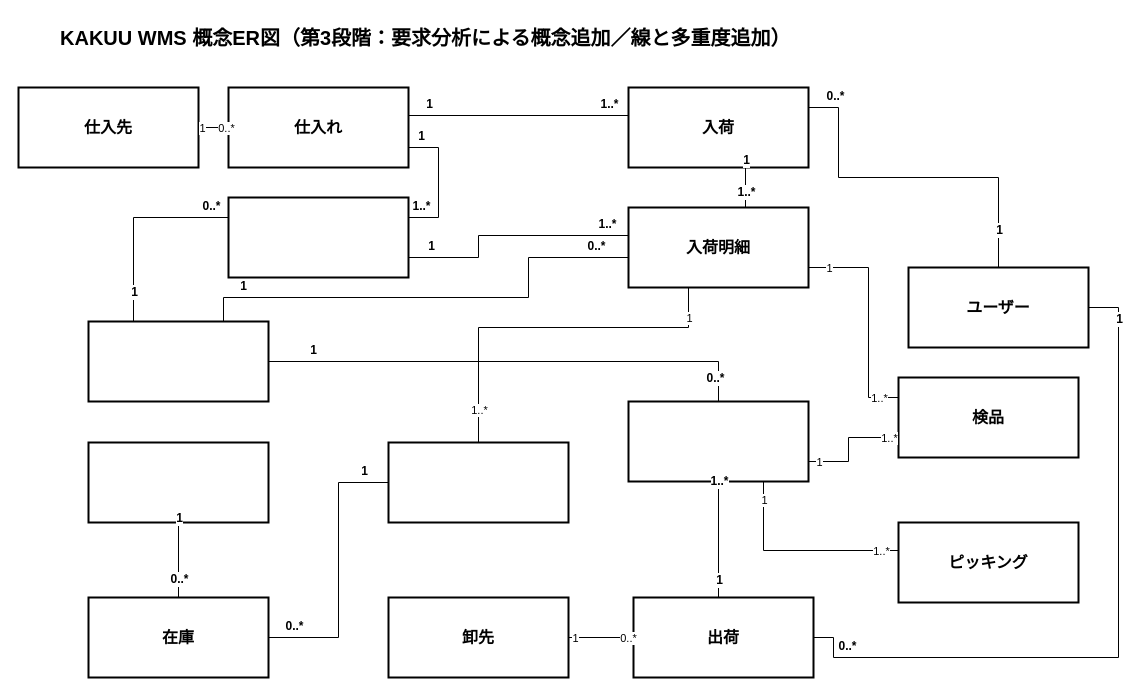
This 1139x695 diagram has some shape labels left out. The shapes that lost their labels are listed below. From the top down, each one's centre as x and y in pixels, then its label:
pixel 318 237: 仕入れ明細
pixel 178 361: 商品
pixel 718 441: 出荷明細
pixel 178 482: ロケーション
pixel 478 482: ロット
